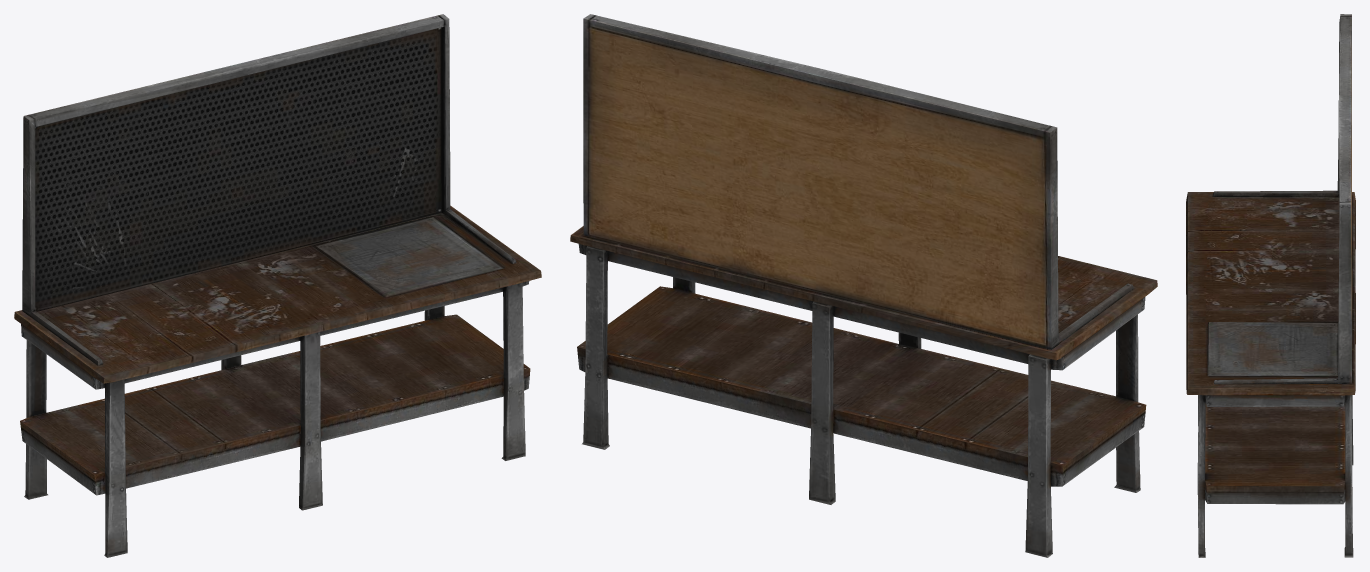
3 renders of one model, left to right at view 1: azimuth 30°, elevation 25°; view 2: azimuth 150°, elevation 25°; view 3: azimuth 270°, elevation 25°, orthographic. The views are drawn at different scales.
Parts seen in each view (by area): view 1: RetopoGroup1; view 2: RetopoGroup1; view 3: RetopoGroup1.
Part boxes in pixels (<box>): RetopoGroup1: <box>14,14,541,557</box>; RetopoGroup1: <box>570,14,1157,557</box>; RetopoGroup1: <box>1186,14,1355,557</box>.
Size of the model in its own units: 2.1 by 0.7605 by 1.75.
